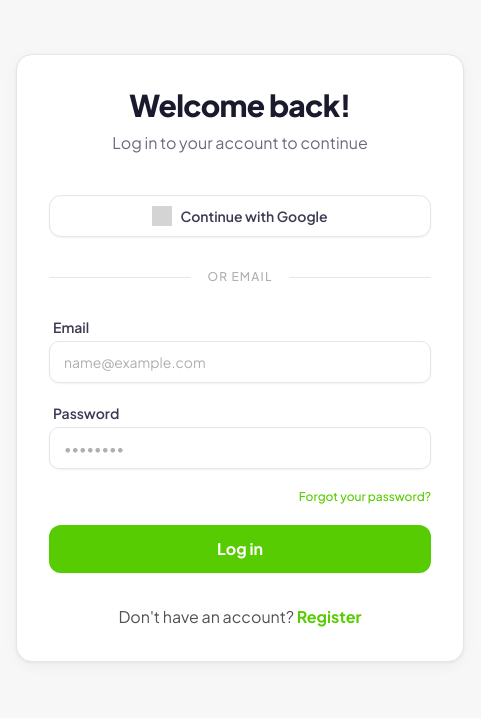
Test: LoginForm › shows loading state during submission
Step 1. Type "test@example.com" into the field labelled "Email" → [240, 362], box [49,341,431,383]
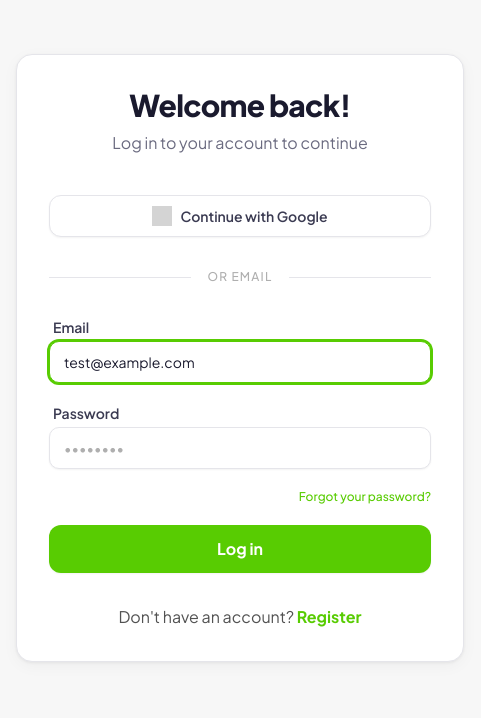
Step 2. Type "password123" into the password field labelled "Password" → [240, 448], box [49,427,431,469]
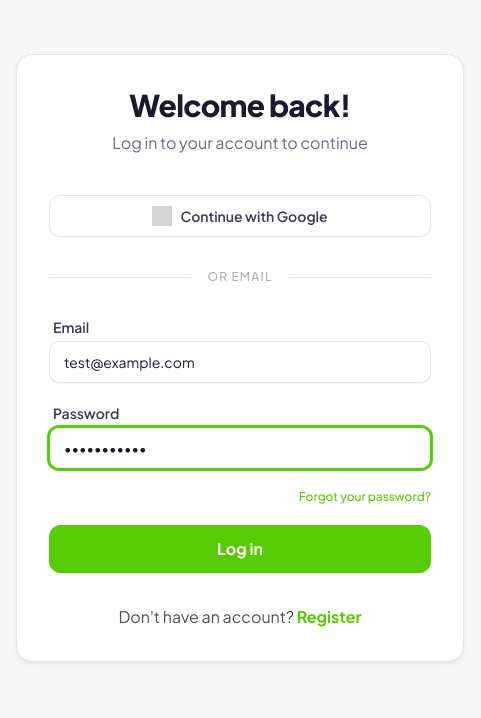
Step 3. Click the button "Log in" → [240, 549], box [49,525,431,573]
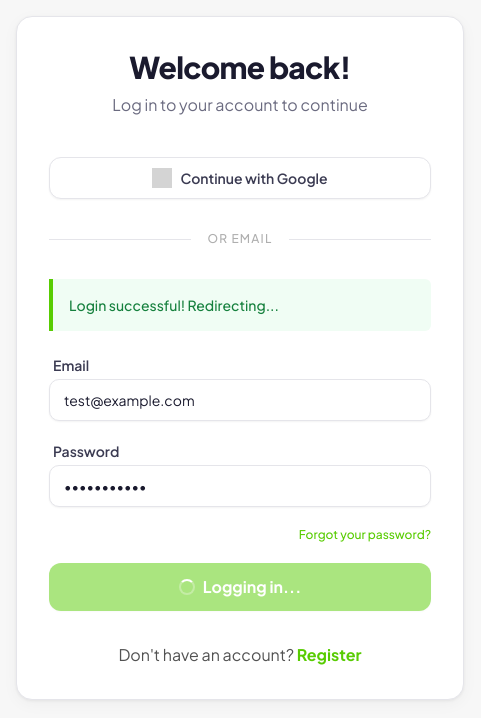
Now the text "Logging in..." is shown, box [179,575,301,599]
Now the button named "log in" is disabled, box [49,563,431,611]
